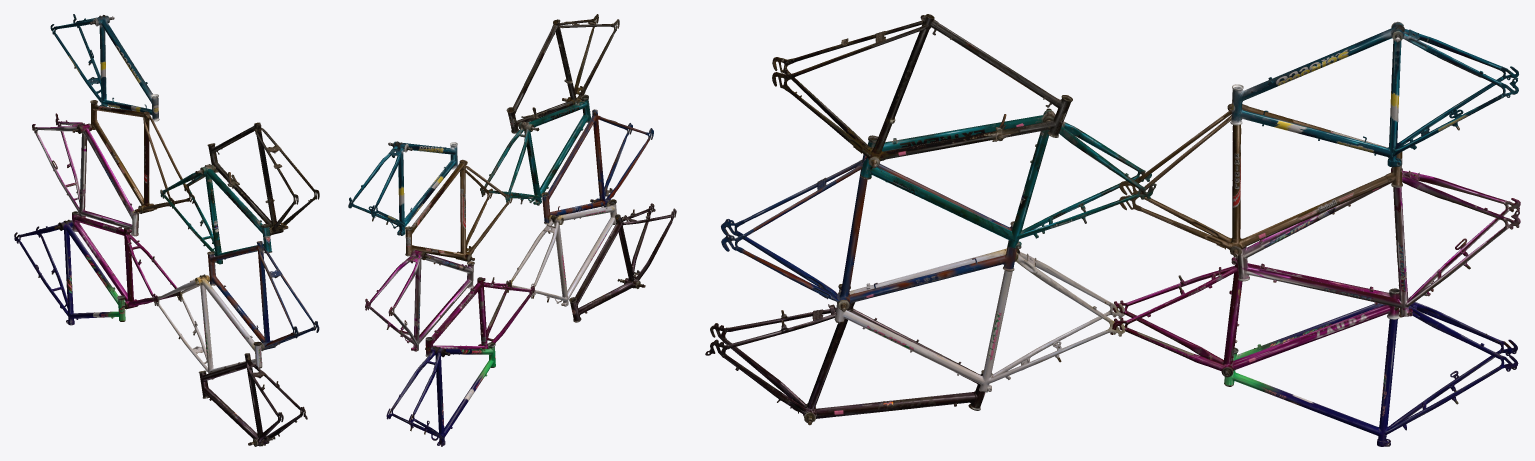
Rendered from FrameStructure_test_v2_vertical_25.glb.
3 renders of one model, left to right at view 1: azimuth 30°, elevation 25°; view 2: azimuth 150°, elevation 25°; view 3: azimuth 270°, elevation 25°, orthographic. The views are drawn at different scales.
Size of the model in its own units: 0.3783 by 1.76 by 2.84.
Materials: 10 (10 with a texture image).
